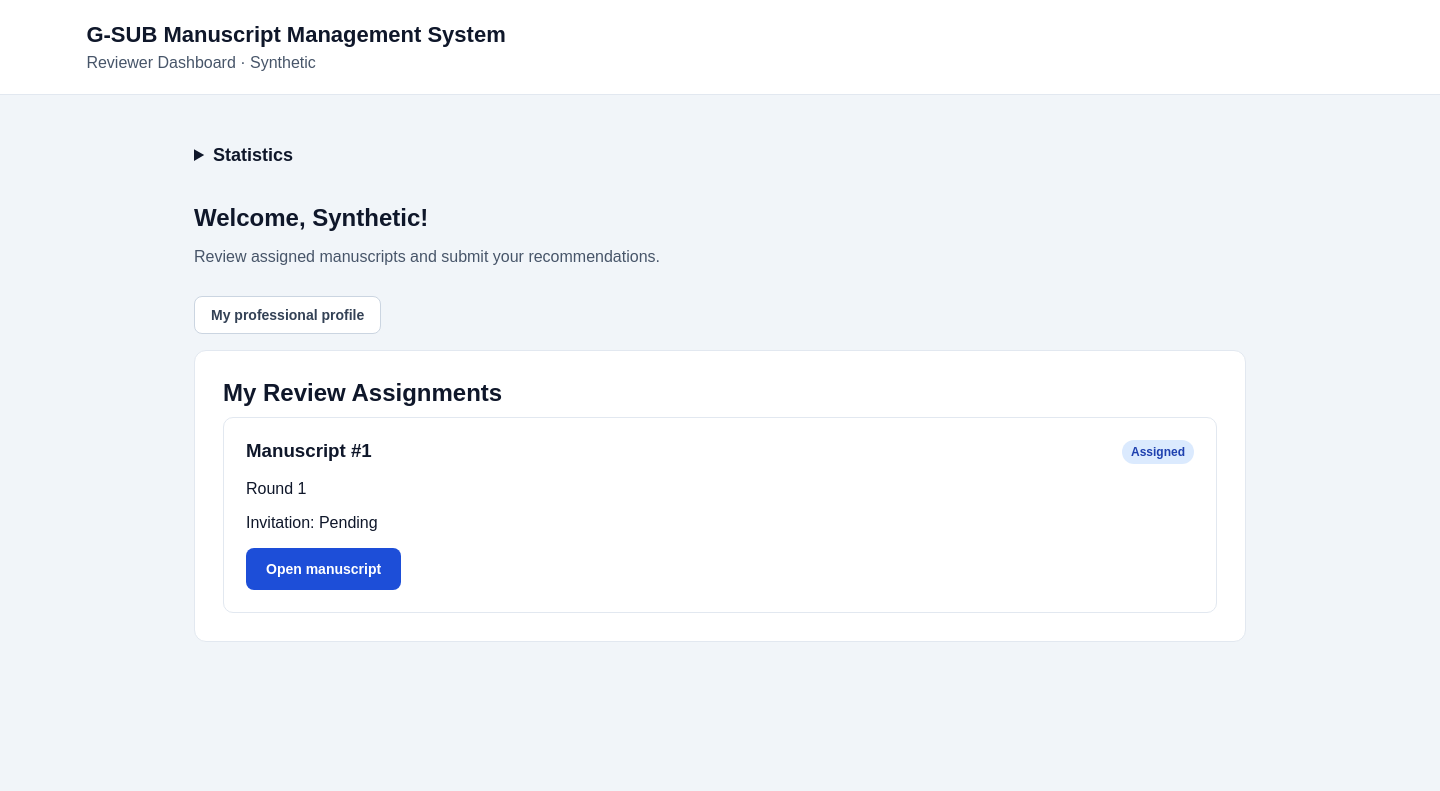
Test case: shows the owner-scoped pending task without offering a document
This screenshot has width=1440, height=791.
Click the button "Open manuscript" at (324, 569), box [246,548,401,590]
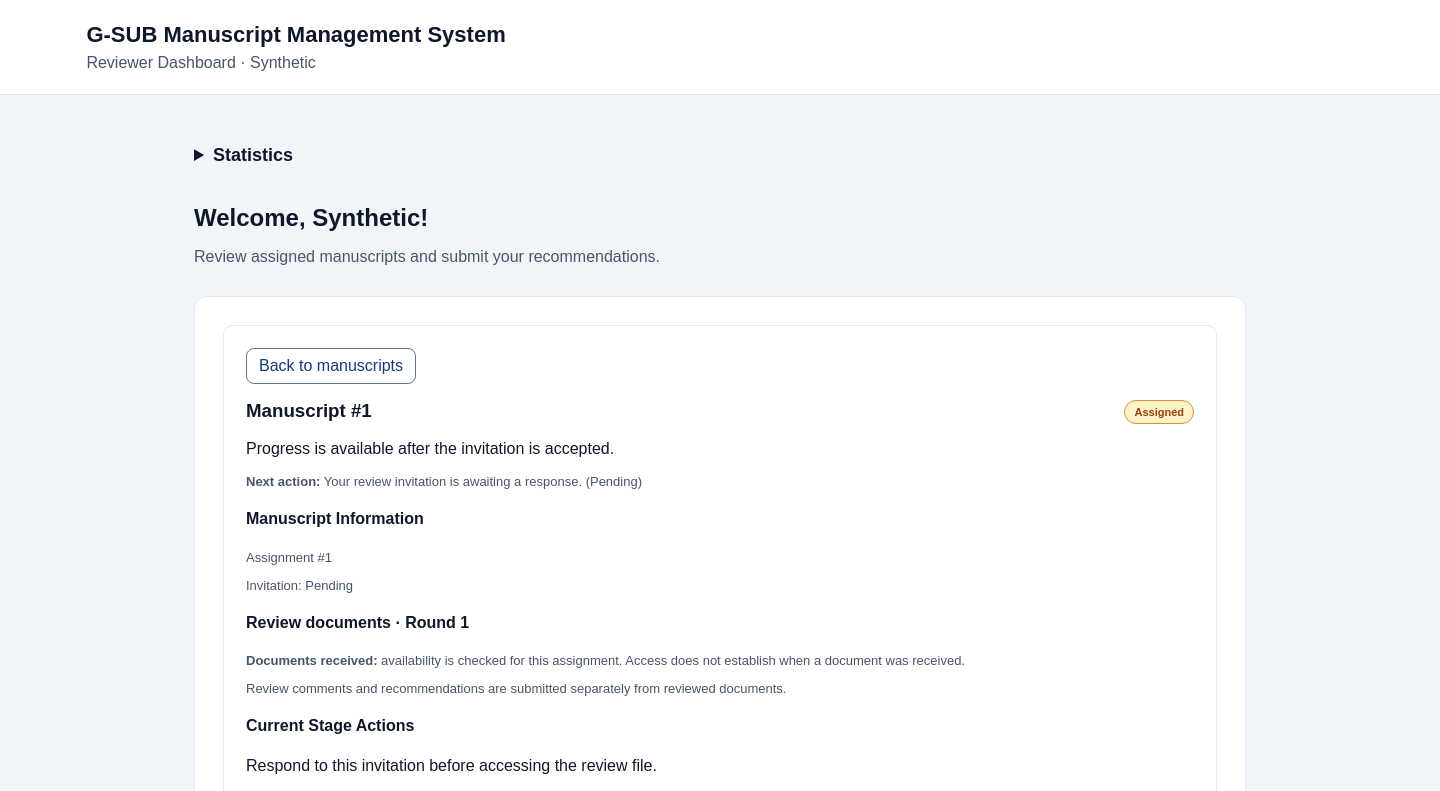
Check: the text "Your review invitation is awaiting a response" is shown, box [324,474,582,489]
